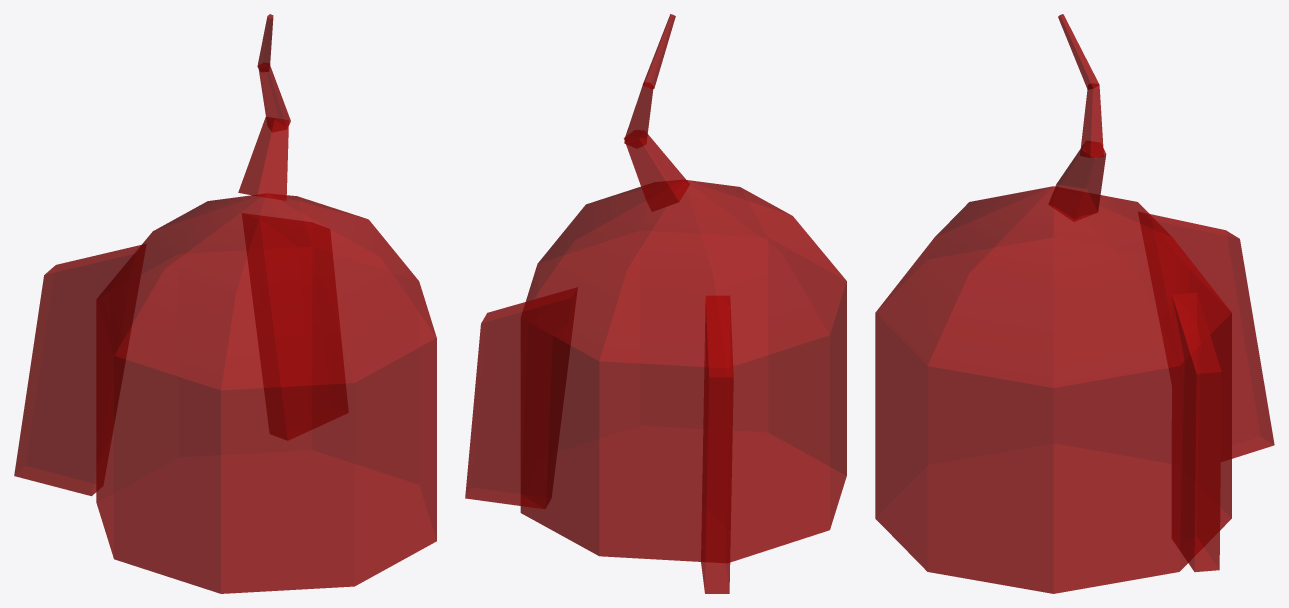
The model's file is SM_Env_Tree_Mangrove_02_Collision.fbx.
3 views of the same model, side by side, from view 1: azimuth 30°, elevation 25°; view 2: azimuth 150°, elevation 25°; view 3: azimuth 270°, elevation 25° (orthographic). The views are drawn at different scales.
Visible parts, largest first — view 1: SM_Env_Tree_Mangrove_02_Collision; view 2: SM_Env_Tree_Mangrove_02_Collision; view 3: SM_Env_Tree_Mangrove_02_Collision.
Boxes of the visible parts, left/top/right/bottom form: SM_Env_Tree_Mangrove_02_Collision: left=14, top=14, right=436, bottom=593; SM_Env_Tree_Mangrove_02_Collision: left=465, top=14, right=846, bottom=593; SM_Env_Tree_Mangrove_02_Collision: left=875, top=14, right=1274, bottom=593.
Bounding box in the file's own units: 285 × 448 × 319.
